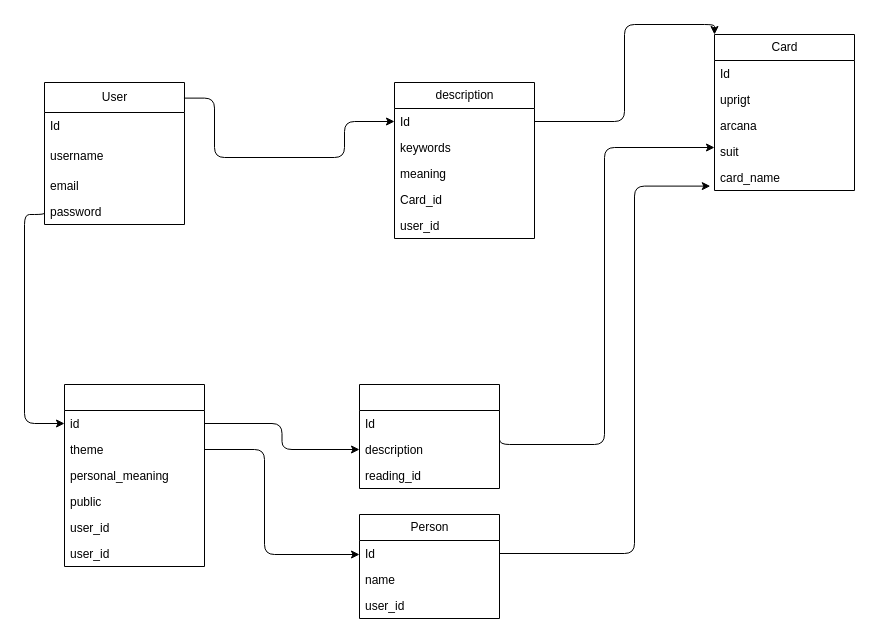
Some shapes in this 872 by 639 pixel diagram are drawn without their labels. Each missing label, with the box of its shape:
question: (358, 384, 500, 488)
Reading: (64, 384, 204, 566)
